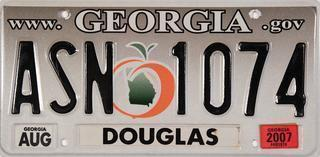placa de veiculo: (4, 4, 313, 155)
